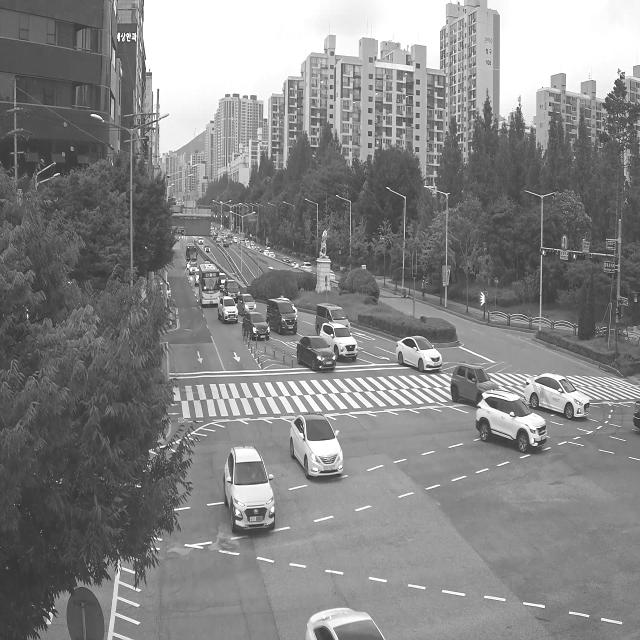Bus: (198, 260, 222, 309), (183, 243, 200, 270), (227, 231, 233, 245)
Car: (217, 439, 285, 554), (468, 387, 550, 469), (521, 362, 592, 429), (288, 409, 350, 485), (391, 325, 447, 377), (449, 355, 494, 407), (316, 316, 362, 362), (295, 329, 337, 376), (267, 290, 301, 340), (243, 304, 272, 348), (217, 294, 240, 331), (203, 244, 211, 256)
